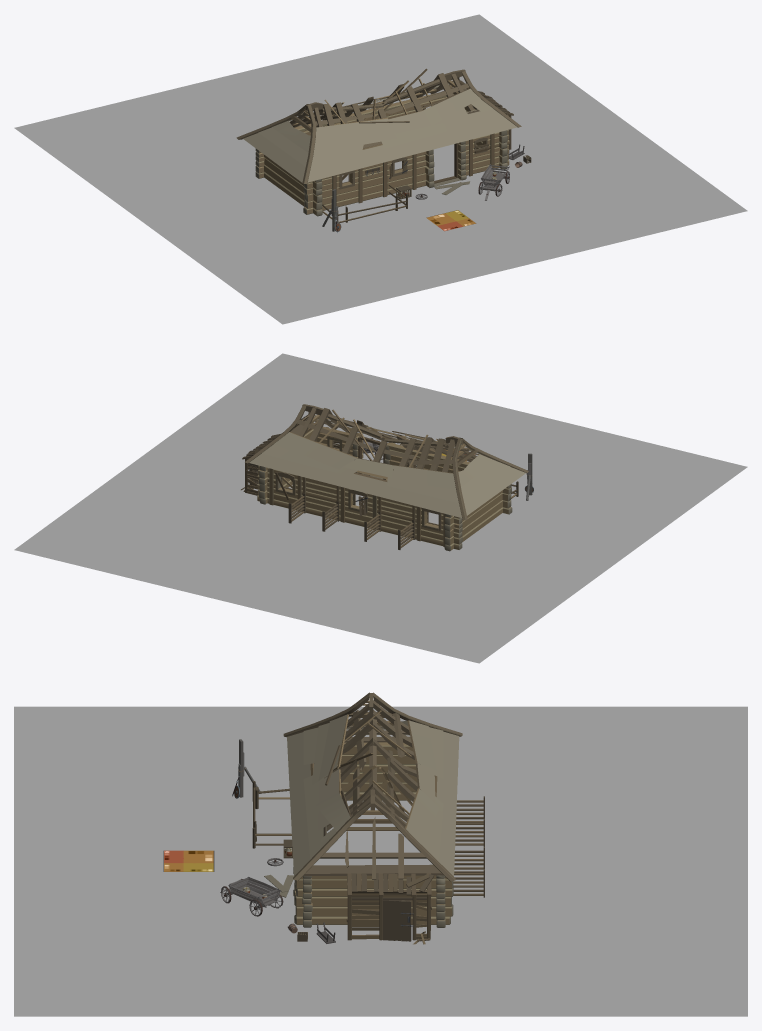
Rendered from XYZ_Color_Draft_04.fbx.
3 views of the same model, one above another, from view 1: azimuth 30°, elevation 25°; view 2: azimuth 150°, elevation 25°; view 3: azimuth 270°, elevation 25° (orthographic). The views are drawn at different scales.
Parts seen in each view (by area): view 1: pPlane1, polySurface286, polySurface289, polySurface267, polySurface218, polySurface285, polySurface297, polySurface185, polySurface231, polySurface180, polySurface214, palette (+3 smaller); view 2: pPlane1, polySurface270, polySurface273, polySurface275, polySurface218, polySurface191, polySurface197, polySurface199, polySurface282, polySurface272, polySurface214, polySurface279 (+1 smaller); view 3: pPlane1, polySurface286, polySurface270, polySurface233, palette, polySurface273, polySurface289, polySurface267, polySurface275, polySurface170, polySurface171, polySurface285 (+8 smaller).
Boxes of the visible parts, left/top/right/bottom form: pPlane1: left=14, top=14, right=747, bottom=324; polySurface286: left=307, top=116, right=517, bottom=182; polySurface289: left=382, top=109, right=503, bottom=148; polySurface267: left=315, top=118, right=397, bottom=142; polySurface218: left=243, top=133, right=305, bottom=182; polySurface285: left=423, top=88, right=480, bottom=125; polySurface297: left=389, top=108, right=468, bottom=133; polySurface185: left=304, top=166, right=426, bottom=201; polySurface231: left=314, top=132, right=397, bottom=153; polySurface180: left=304, top=173, right=426, bottom=208; polySurface214: left=258, top=127, right=308, bottom=166; palette: left=426, top=210, right=476, bottom=231; pPlane1: left=14, top=353, right=747, bottom=663; polySurface270: left=249, top=453, right=461, bottom=517; polySurface273: left=274, top=432, right=356, bottom=469; polySurface275: left=392, top=465, right=455, bottom=489; polySurface218: left=464, top=467, right=525, bottom=515; polySurface191: left=258, top=489, right=462, bottom=544; polySurface197: left=257, top=484, right=462, bottom=538; polySurface199: left=257, top=495, right=462, bottom=549; polySurface282: left=262, top=444, right=357, bottom=476; polySurface272: left=387, top=471, right=458, bottom=502; polySurface214: left=461, top=461, right=509, bottom=500; polySurface279: left=343, top=458, right=393, bottom=477; pPlane1: left=14, top=706, right=747, bottom=1016; polySurface286: left=287, top=732, right=310, bottom=876; polySurface270: left=436, top=731, right=459, bottom=876; polySurface233: left=304, top=864, right=443, bottom=875; palette: left=163, top=850, right=214, bottom=871; polySurface273: left=406, top=789, right=438, bottom=847; polySurface289: left=303, top=775, right=326, bottom=859; polySurface267: left=318, top=714, right=347, bottom=780; polySurface275: left=409, top=720, right=436, bottom=770; polySurface170: left=295, top=879, right=453, bottom=888; polySurface171: left=295, top=904, right=453, bottom=916; polySurface285: left=315, top=792, right=350, bottom=831.
Size of the model in its own units: 5611 by 1029 by 5611.
